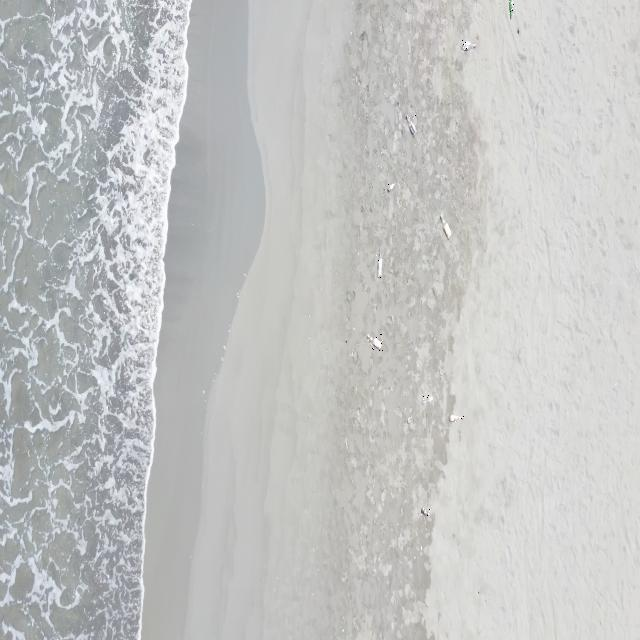glass: (440, 213, 453, 241), (406, 114, 418, 138), (367, 333, 383, 351), (376, 250, 383, 279), (462, 40, 476, 52), (448, 414, 464, 422), (423, 395, 434, 406), (387, 181, 396, 194), (422, 507, 432, 517), (509, 0, 514, 19), (407, 415, 412, 424)
